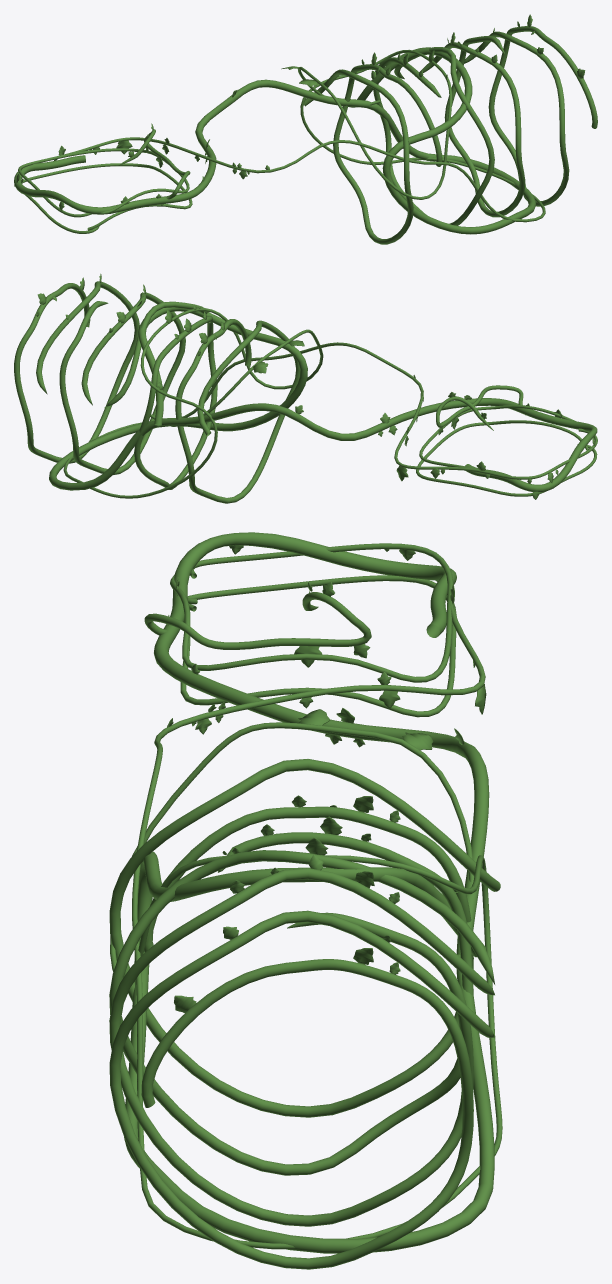
File: VeinsForBrazier.fbx
3 views of the same model, one above another, from view 1: azimuth 30°, elevation 25°; view 2: azimuth 150°, elevation 25°; view 3: azimuth 270°, elevation 25° (orthographic). The views are drawn at different scales.
Parts seen in each view (by area): view 1: BezierCurve.019; view 2: BezierCurve.019; view 3: BezierCurve.019.
Part boxes in pixels (x1=…): BezierCurve.019: x1=14, y1=14, x2=597, y2=244; BezierCurve.019: x1=14, y1=273, x2=597, y2=503; BezierCurve.019: x1=109, y1=532, x2=502, y2=1269.
Bounding box in the file's own units: 1010 × 325 × 332.
